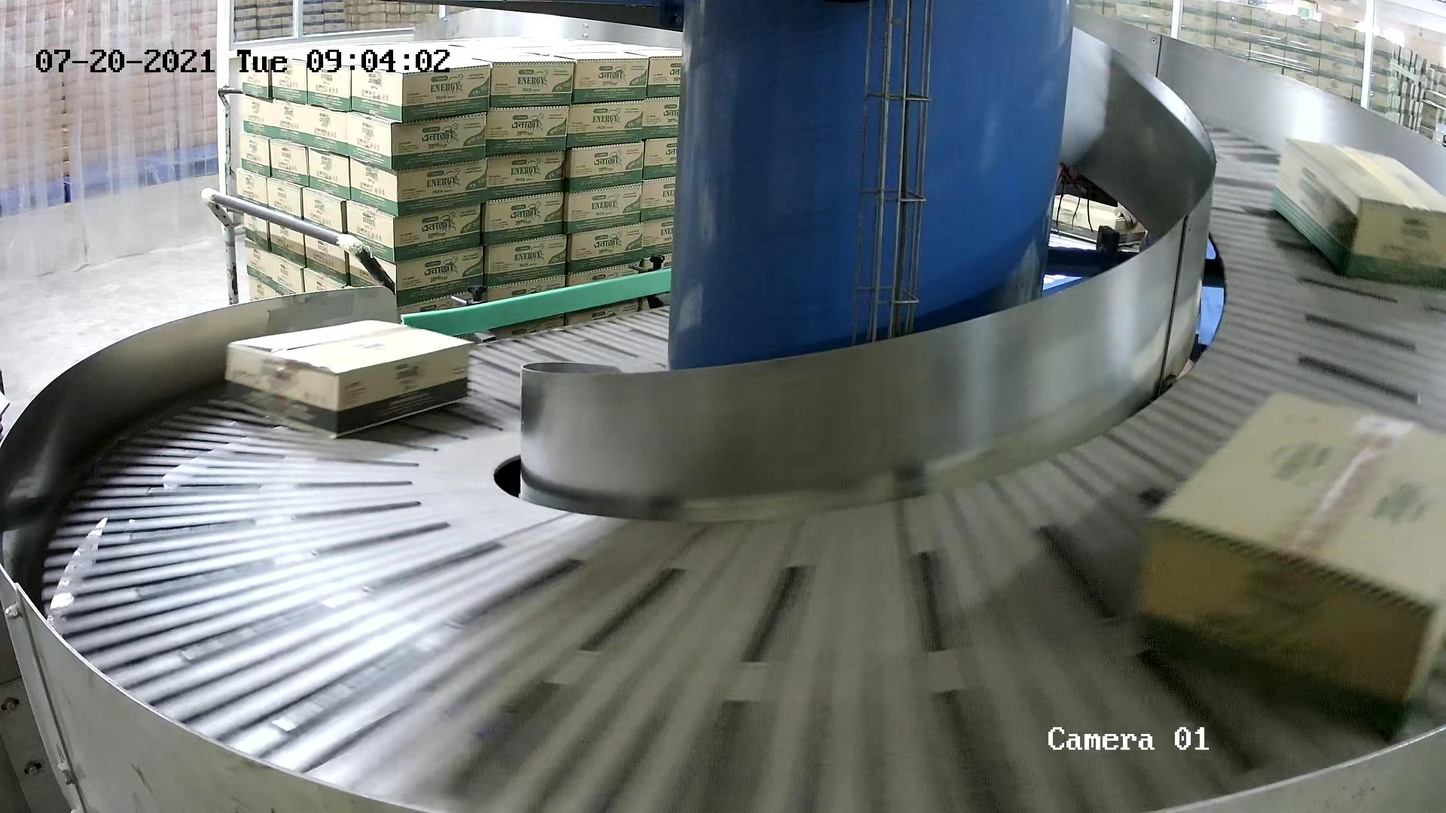Box: (221, 316, 475, 441)
